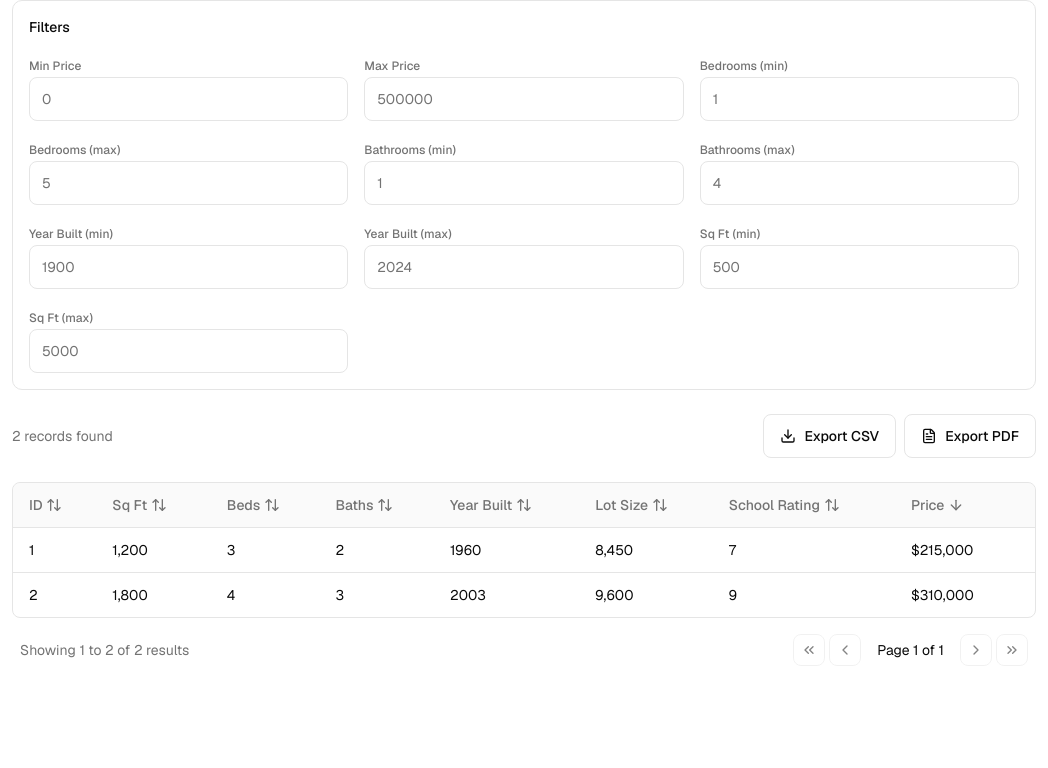
Test: MarketTable › shows clear all button when filters are active
The width and height of the screenshot is (1048, 768).
In the number field labelled "Min Price": (189, 99) 29,77 -> 348,121, type "100000"
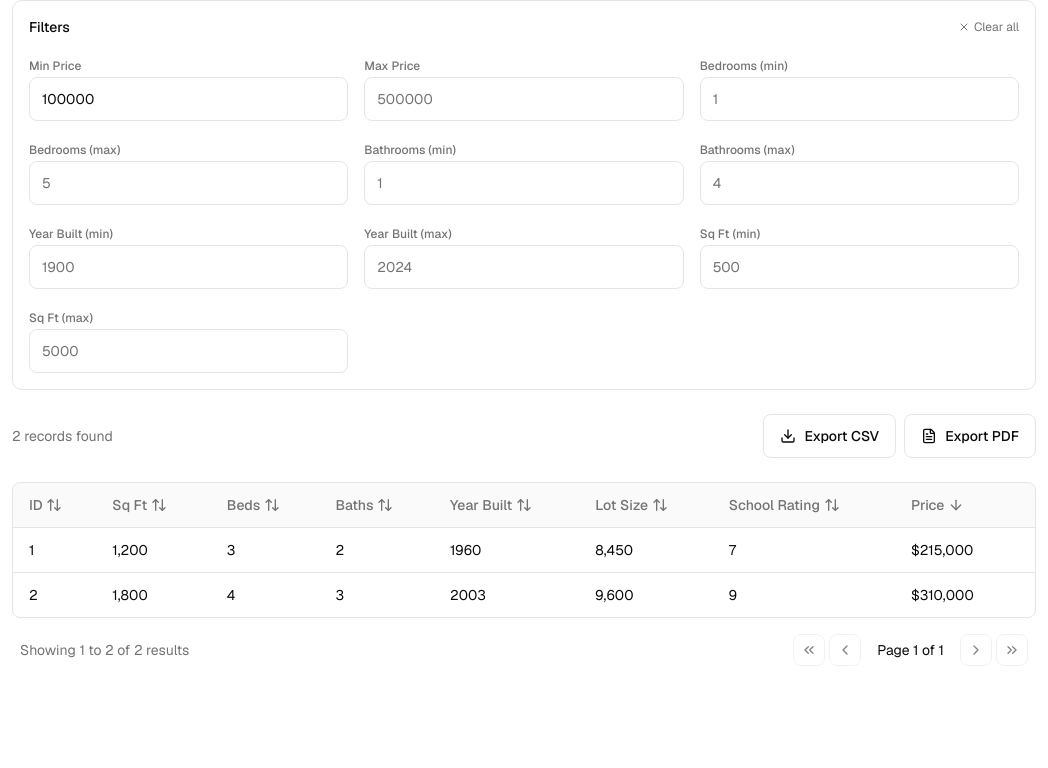
expect the button with aria-label "Clear all filters" is shown: met, box 958,19 -> 1019,35
